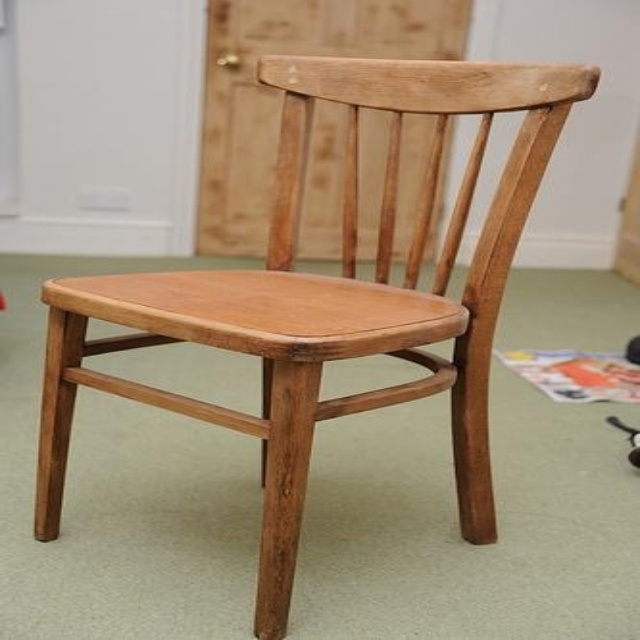obstacle: (35, 56, 598, 639)
